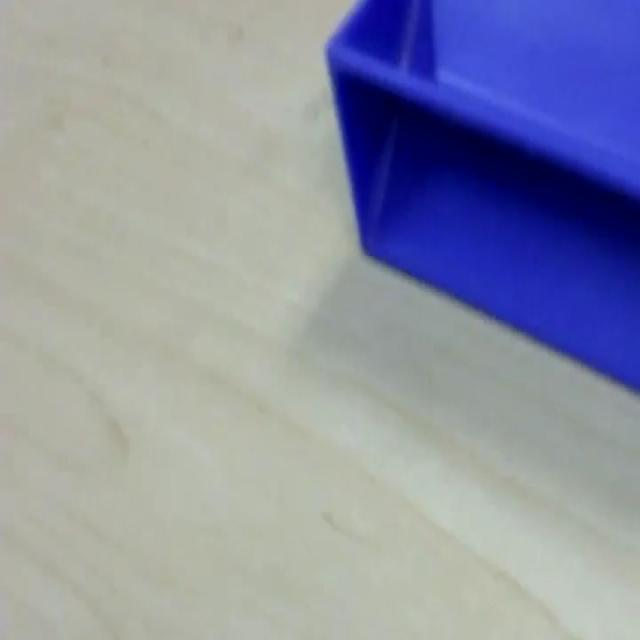blue_block: (323, 0, 638, 393)
